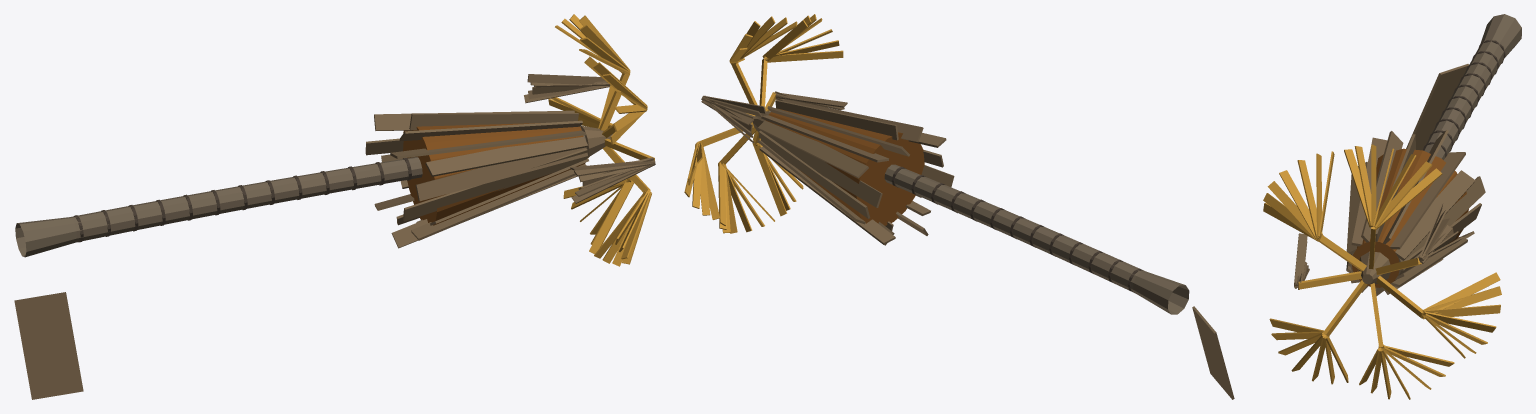
Rendered from golf_palm_down.glb.
3 renders of one model, left to right at view 1: azimuth 30°, elevation 25°; view 2: azimuth 150°, elevation 25°; view 3: azimuth 270°, elevation 25°, orthographic. The views are drawn at different scales.
Parts seen in each view (by area): view 1: golf_palm_down; view 2: golf_palm_down; view 3: golf_palm_down.
Boxes of the visible parts, box(x1,y1,x2,y2) form: golf_palm_down: box(14, 14, 655, 399); golf_palm_down: box(684, 14, 1234, 399); golf_palm_down: box(1263, 14, 1521, 399).
Bounding box in the file's own units: 12.9 × 5.62 × 4.69.
